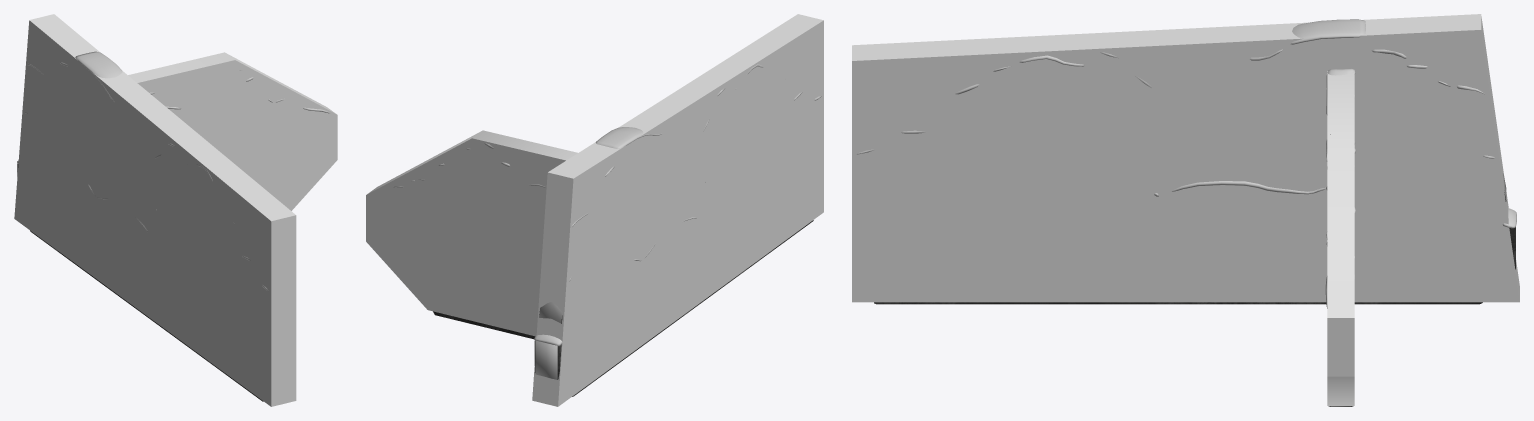
The model's file is Wall-TypeT.fbx.
3 renders of one model, left to right at view 1: azimuth 30°, elevation 25°; view 2: azimuth 150°, elevation 25°; view 3: azimuth 270°, elevation 25°, orthographic. The views are drawn at different scales.
Parts seen in each view (by area): view 1: Wall-TypeT_col, snow, Wall-TypeT; view 2: Wall-TypeT_col, Wall-TypeT, snow; view 3: Wall-TypeT_col, snow, Wall-TypeT.
Part boxes in pixels (x1,y1,x2,y2): Wall-TypeT_col: (14, 14, 337, 406); snow: (17, 51, 330, 291); Wall-TypeT: (17, 163, 263, 401); Wall-TypeT_col: (366, 14, 823, 406); Wall-TypeT: (433, 136, 813, 396); snow: (393, 64, 821, 346); Wall-TypeT_col: (852, 14, 1519, 405); snow: (857, 19, 1516, 308); Wall-TypeT: (874, 134, 1515, 406).
Size of the model in its own units: 178 by 144 by 316.
